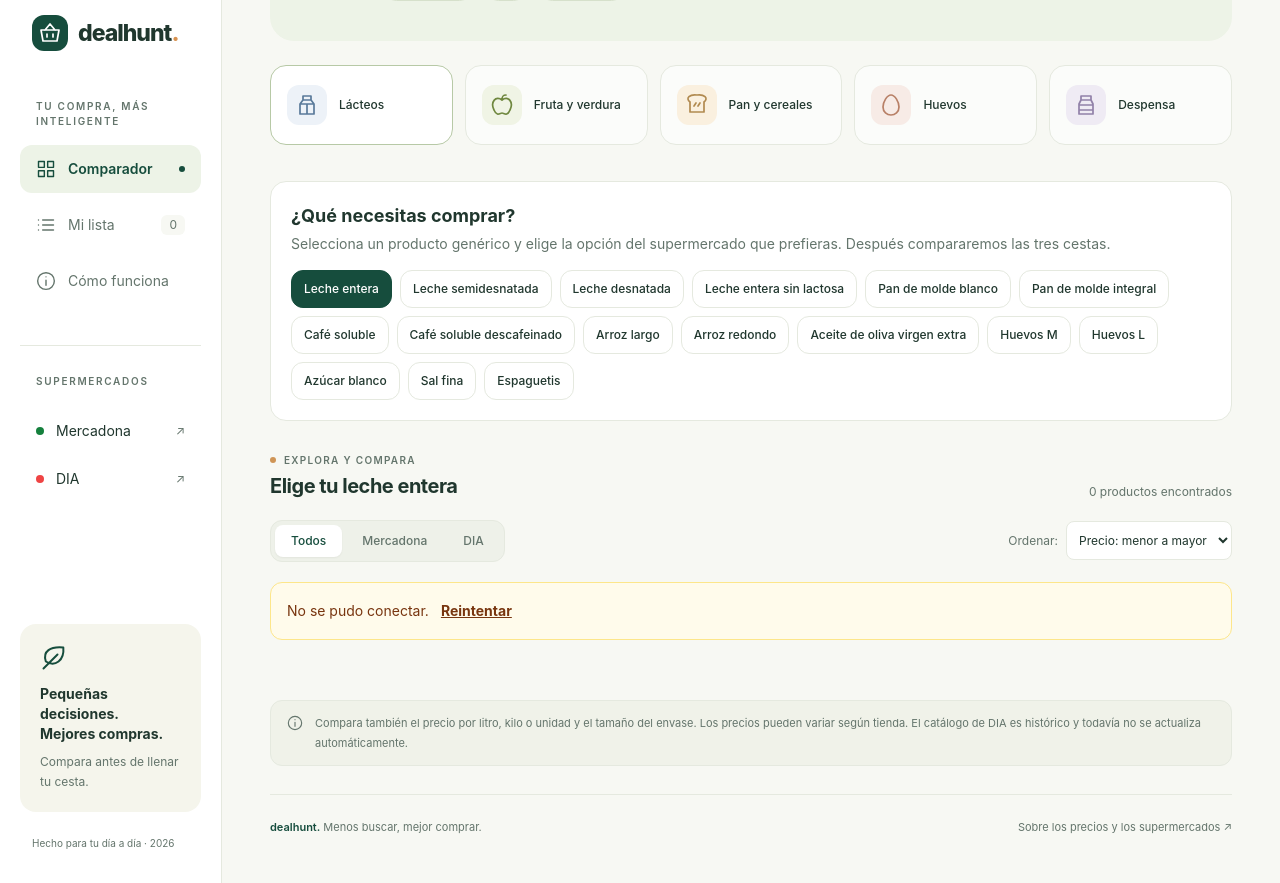
explica los errores y permite reintentar
(page scrolled)
Check: the message shows "No se pudo conectar.", box left=287, top=602, right=429, bottom=619
Click the button "Reintentar".
click(476, 611)  # box left=441, top=599, right=512, bottom=623
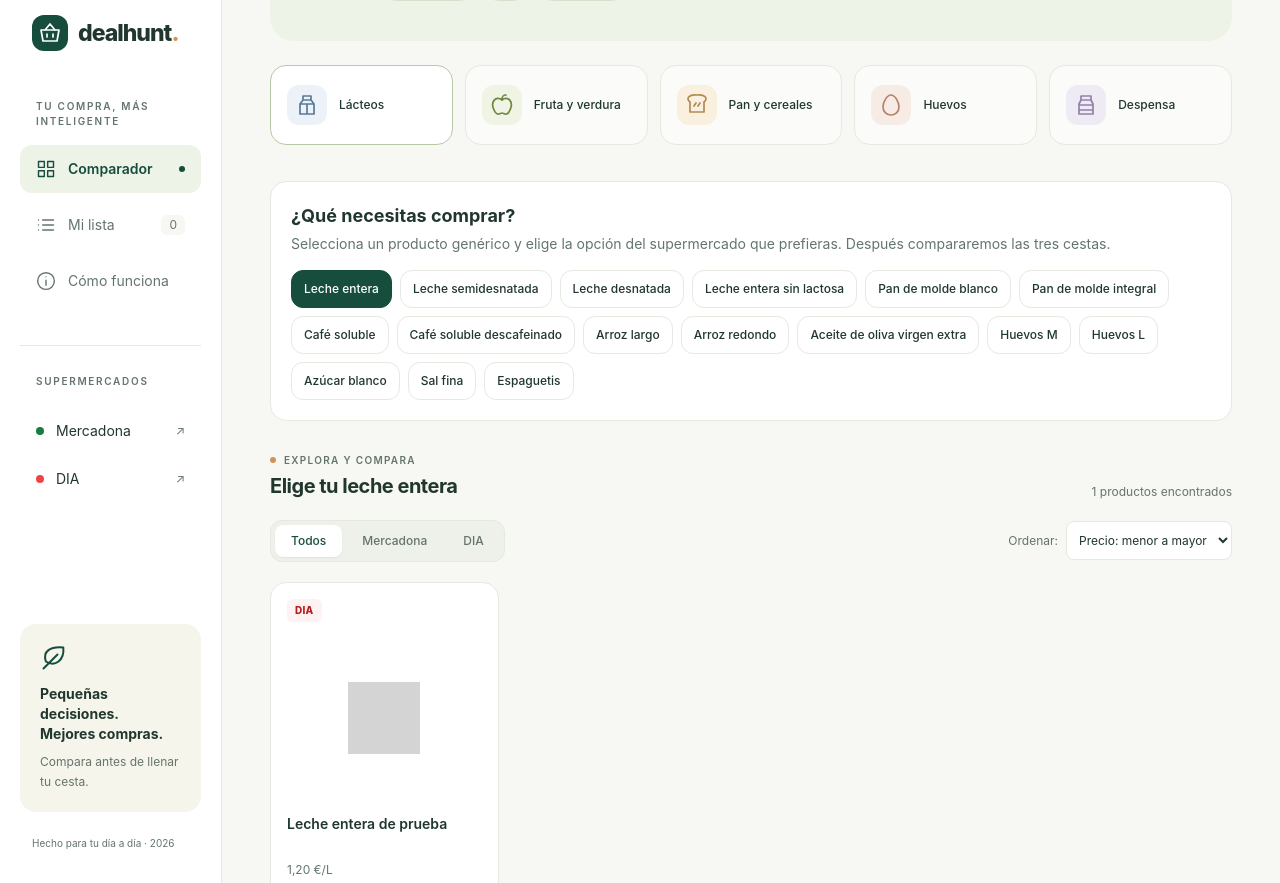
Check: the heading "Leche entera de prueba" is shown, box left=287, top=815, right=447, bottom=832
